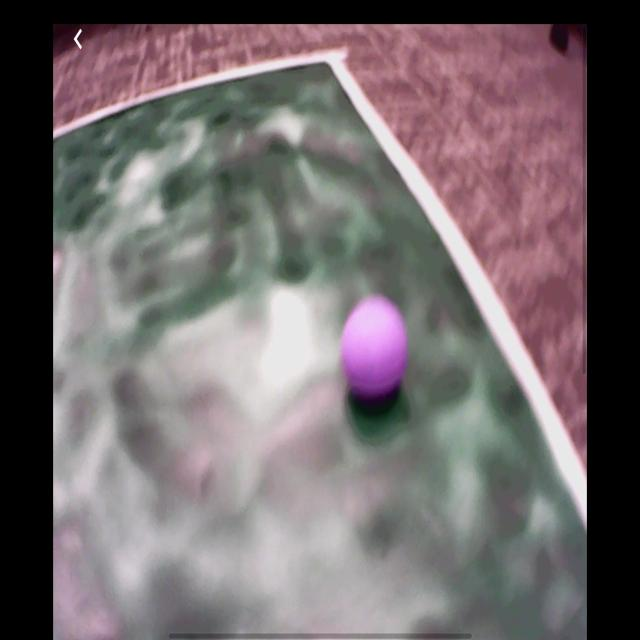ball: (346, 300, 404, 403)
